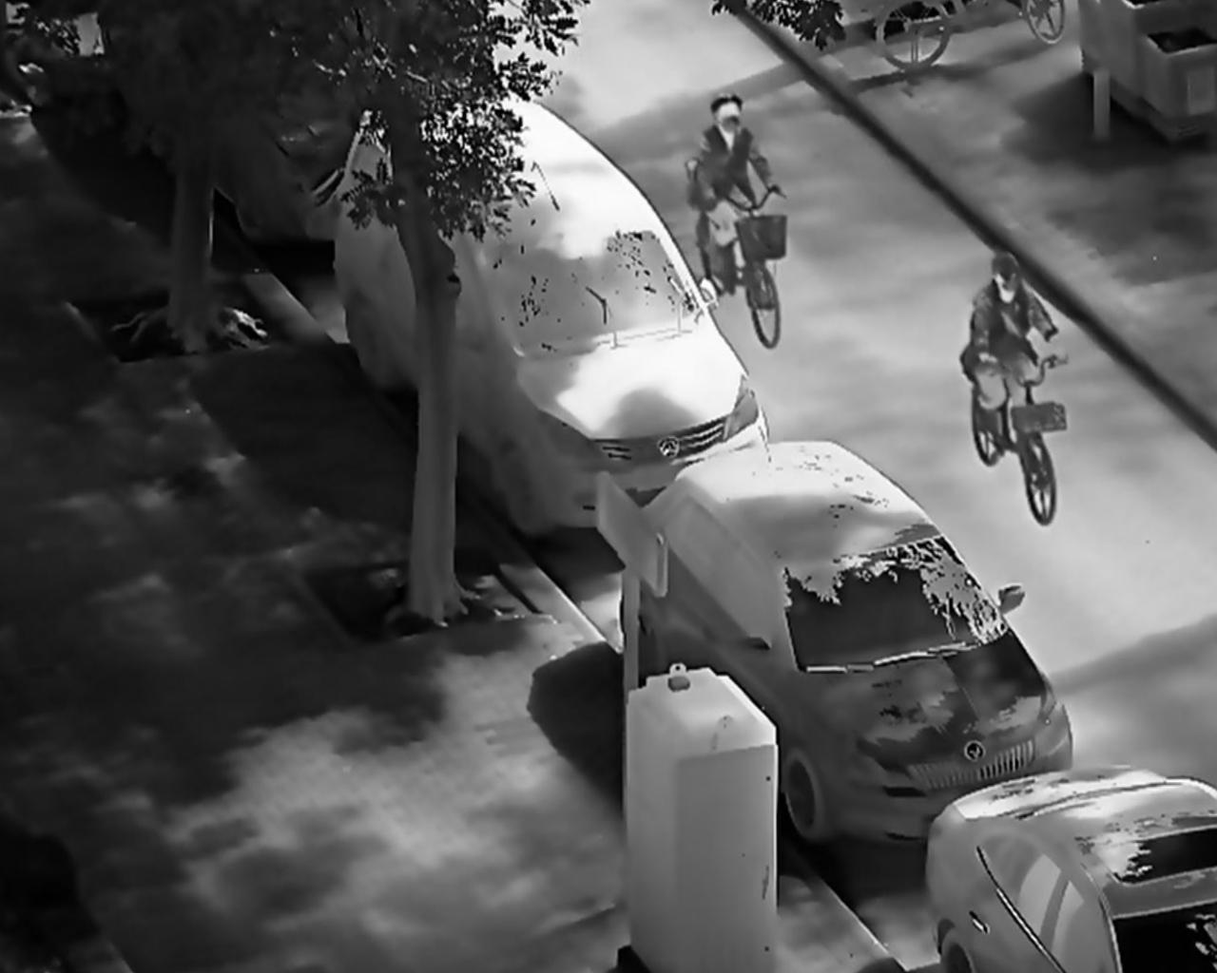person: (682, 86, 795, 289), (956, 253, 1073, 448)
